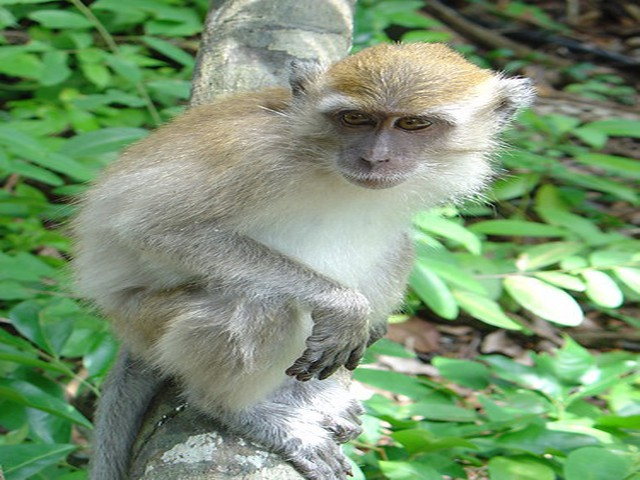Monkey: (60, 40, 547, 475)
